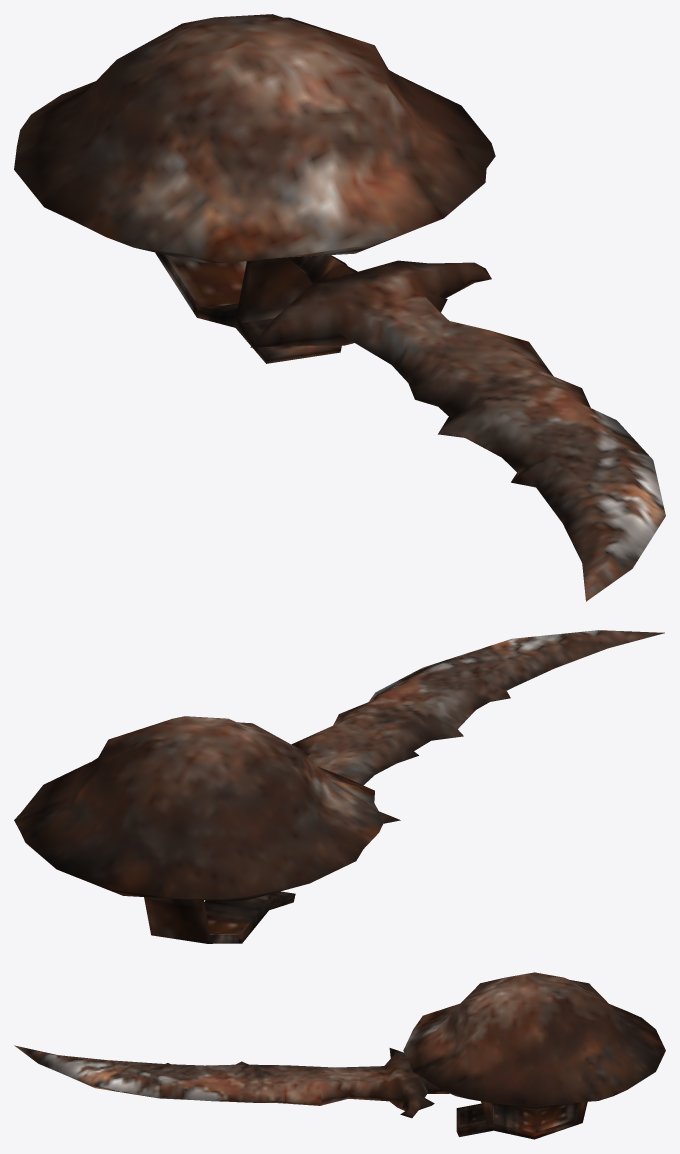
File: we086_amh.OBJ
3 views of the same model, one above another, from view 1: azimuth 30°, elevation 25°; view 2: azimuth 150°, elevation 25°; view 3: azimuth 270°, elevation 25° (orthographic). The views are drawn at different scales.
Parts seen in each view (by area): view 1: mesh_1, mesh_0; view 2: mesh_1, mesh_0; view 3: mesh_1, mesh_0.
Boxes of the visible parts, left/top/right/bottom form: mesh_1: left=14, top=14, right=495, bottom=363; mesh_0: left=250, top=255, right=665, bottom=601; mesh_1: left=14, top=716, right=384, bottom=943; mesh_0: left=291, top=630, right=664, bottom=823; mesh_1: left=403, top=972, right=665, bottom=1139; mesh_0: left=14, top=1045, right=449, bottom=1118.
Bounding box in the file's own units: 54.62 × 34.99 × 136.
Materials: 1 (1 with a texture image).
